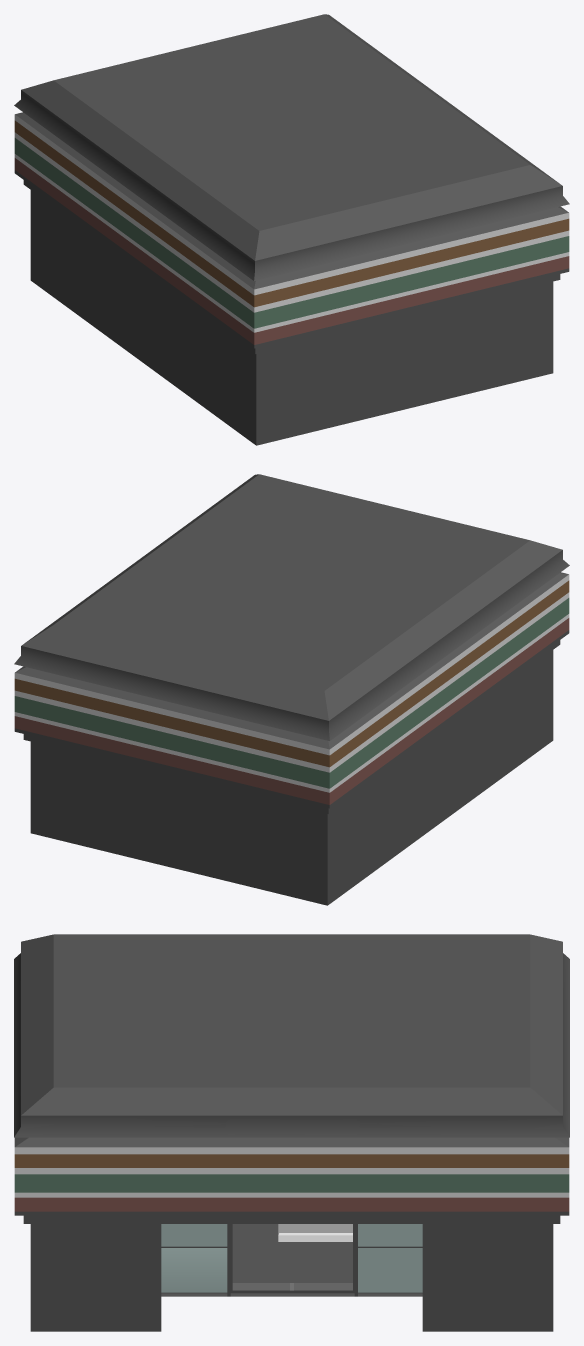
3 renders of one model, top to bottom at view 1: azimuth 30°, elevation 25°; view 2: azimuth 150°, elevation 25°; view 3: azimuth 270°, elevation 25°, orthographic. The views are drawn at different scales.
Parts seen in each view (by area): view 1: polySurface3, polySurface8, polySurface7, polySurface1, polySurface4; view 2: polySurface3, polySurface8, polySurface7, polySurface1, polySurface4; view 3: polySurface3, polySurface8, polySurface7, polySurface1, polySurface5, SnackStand3, polySurface6.
Part boxes in pixels (x1,y1,x2,y2): polySurface3: (14, 100, 569, 445); polySurface8: (54, 14, 529, 230); polySurface7: (21, 14, 562, 260); polySurface1: (14, 90, 569, 280); polySurface4: (31, 276, 553, 442); polySurface3: (14, 550, 569, 905); polySurface8: (54, 474, 529, 690); polySurface7: (21, 474, 562, 720); polySurface1: (14, 550, 569, 740); polySurface4: (31, 733, 552, 903); polySurface3: (14, 953, 569, 1331); polySurface8: (53, 934, 530, 1087); polySurface7: (21, 934, 562, 1115); polySurface1: (14, 953, 569, 1296); polySurface5: (161, 1224, 227, 1247); SnackStand3: (278, 1224, 352, 1241); polySurface6: (232, 1283, 352, 1290).
Bounding box in the file's own units: 18.09 × 11.18 × 23.8.
